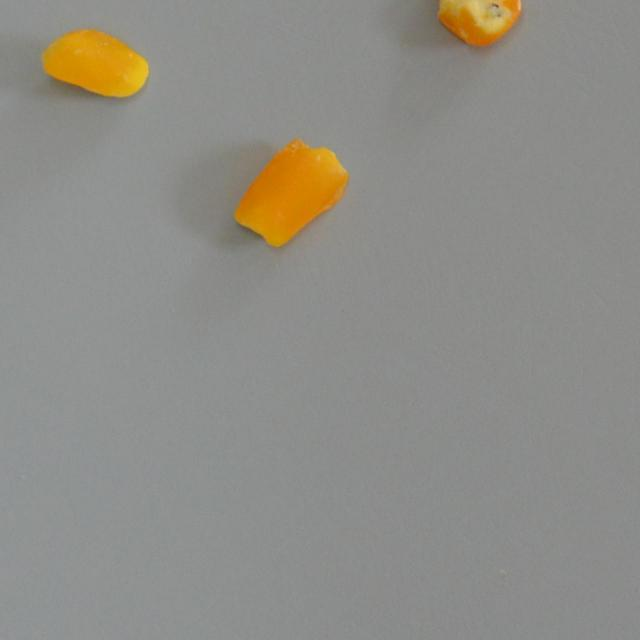dañado: (232, 134, 353, 252), (428, 0, 526, 56)
estandar: (31, 14, 159, 97)
